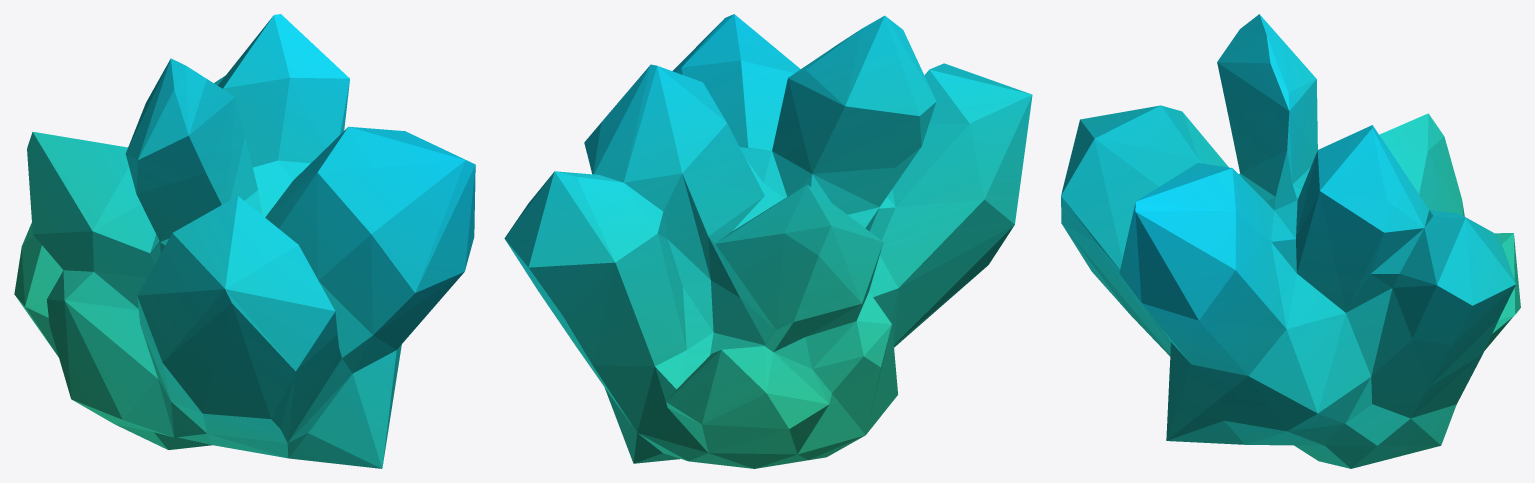
The model's file is Ghost Crystal.fbx.
The picture shows the model from 3 angles, left to right: view 1: azimuth 30°, elevation 25°; view 2: azimuth 150°, elevation 25°; view 3: azimuth 270°, elevation 25°; orthographic projection. The views are drawn at different scales.
Parts seen in each view (by area): view 1: GHOST CRYSTAL.001; view 2: GHOST CRYSTAL.001; view 3: GHOST CRYSTAL.001.
Part boxes in pixels (x1,y1,x2,y2): GHOST CRYSTAL.001: (14, 14, 475, 468); GHOST CRYSTAL.001: (504, 14, 1032, 468); GHOST CRYSTAL.001: (1061, 14, 1520, 468).
Bounding box in the file's own units: 155 × 196 × 208.
1 material, 1 textured.
